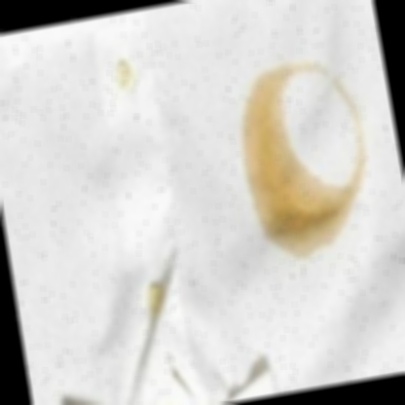coffee: (229, 76, 309, 187), (253, 175, 347, 253)
